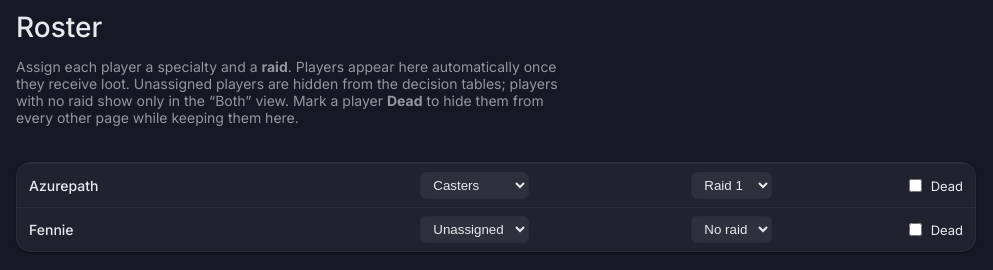
Test case: RosterEditor › reverts only the failed row, leaving other players untouched
Select "Healers" in the dropdown named "specialty for Fennie" at coordinates (475, 230), box [420,216,529,243]
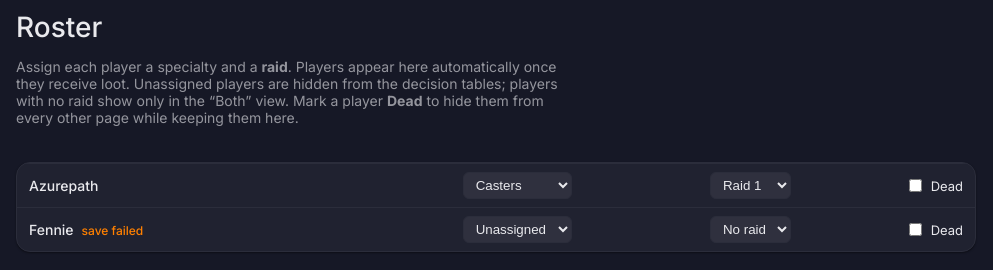
Expected: the dropdown named "specialty for Azurepath" shows "Casters", [463,172,572,199]
Now the text "save failed" is shown, box [82,223,143,238]
